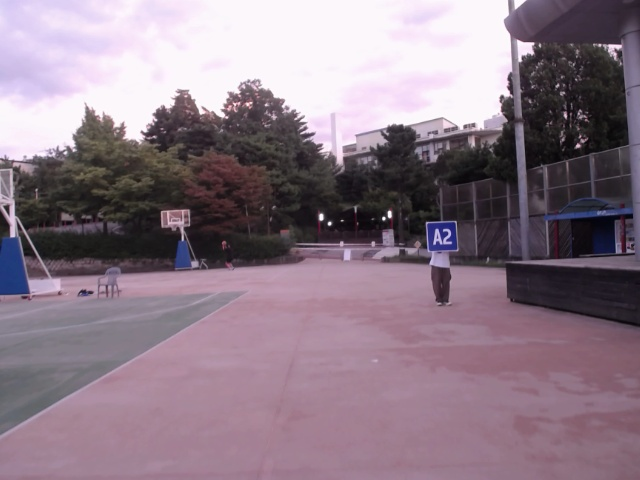delivery_a2: (426, 221, 458, 252)
